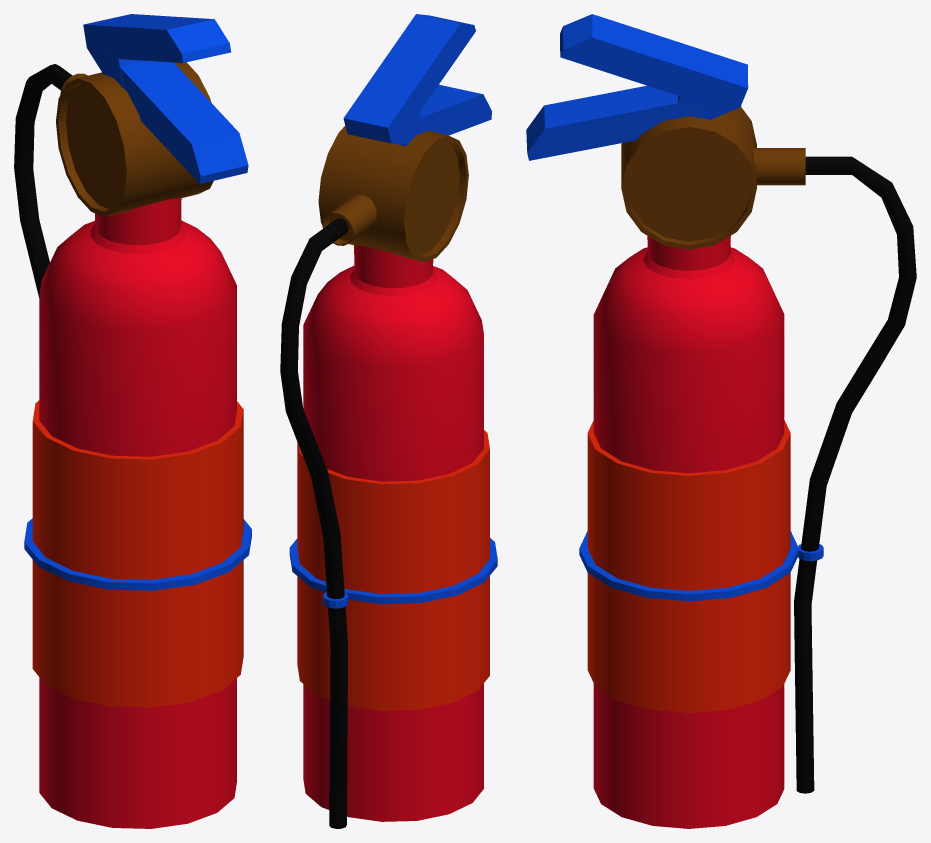
File: Fire_Extinguisher.fbx
The picture shows the model from 3 angles, left to right: view 1: azimuth 30°, elevation 25°; view 2: azimuth 150°, elevation 25°; view 3: azimuth 270°, elevation 25°; orthographic projection. The views are drawn at different scales.
Visible parts, largest first — view 1: Fire_Extinguishers; view 2: Fire_Extinguishers; view 3: Fire_Extinguishers.
Part boxes in pixels (bbox=[...]): Fire_Extinguishers: bbox=[14, 14, 251, 828]; Fire_Extinguishers: bbox=[280, 14, 497, 828]; Fire_Extinguishers: bbox=[526, 14, 916, 828].
Size of the model in its own units: 0.1526 by 0.5876 by 0.2715.
